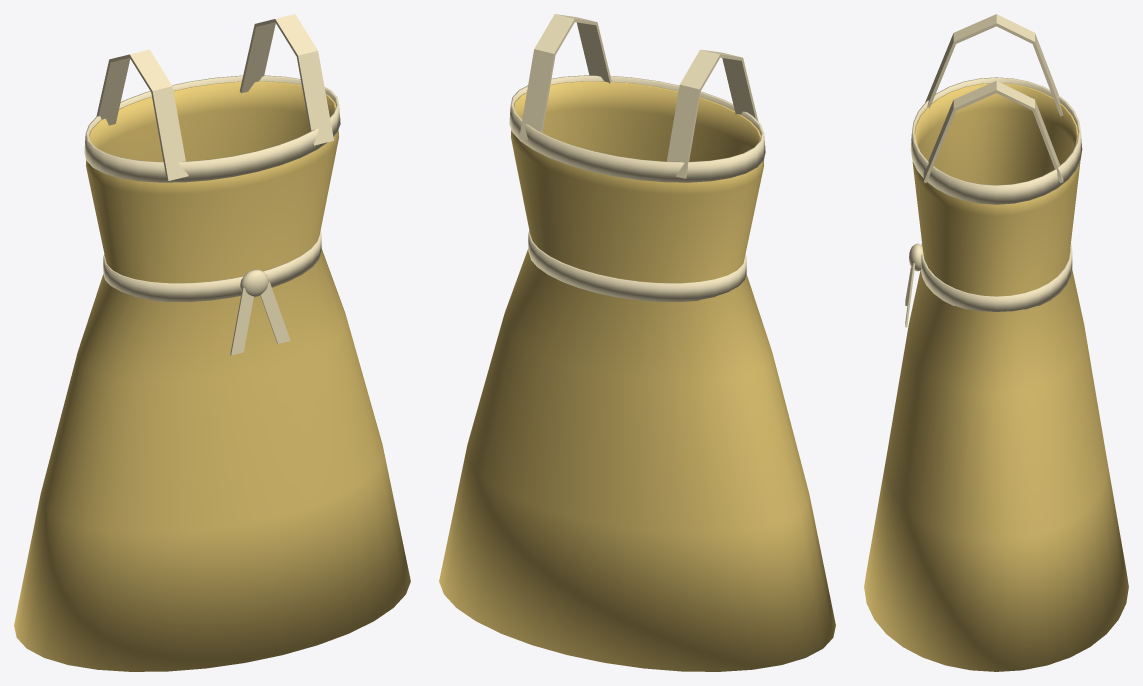
File: dress_sundress.glb
3 views of the same model, side by side, from view 1: azimuth 30°, elevation 25°; view 2: azimuth 150°, elevation 25°; view 3: azimuth 270°, elevation 25° (orthographic). The views are drawn at different scales.
Visible parts, largest first — view 1: Sundress_Open_Bodice_And_Skirt, Sundress_Top_Binding, Sundress_Shoulder_Strap.001, Sundress_Shoulder_Strap, Sundress_Waist_Tie, Sundress_Tie_Tail, Sundress_Tie_Tail.001, Sundress_Front_Knot; view 2: Sundress_Open_Bodice_And_Skirt, Sundress_Top_Binding, Sundress_Waist_Tie, Sundress_Shoulder_Strap, Sundress_Shoulder_Strap.001; view 3: Sundress_Open_Bodice_And_Skirt, Sundress_Top_Binding, Sundress_Waist_Tie, Sundress_Shoulder_Strap.001, Sundress_Shoulder_Strap.
Boxes of the visible parts, x1,y1,x2,y2 form: Sundress_Open_Bodice_And_Skirt: (14, 81, 410, 671); Sundress_Top_Binding: (84, 75, 340, 182); Sundress_Shoulder_Strap.001: (240, 14, 333, 145); Sundress_Shoulder_Strap: (96, 49, 188, 180); Sundress_Waist_Tie: (103, 231, 321, 301); Sundress_Tie_Tail: (230, 288, 253, 355); Sundress_Tie_Tail.001: (260, 281, 290, 343); Sundress_Front_Knot: (240, 269, 268, 297); Sundress_Open_Bodice_And_Skirt: (439, 81, 835, 671); Sundress_Top_Binding: (509, 75, 765, 182); Sundress_Waist_Tie: (528, 231, 746, 301); Sundress_Shoulder_Strap: (667, 49, 758, 178); Sundress_Shoulder_Strap.001: (519, 14, 611, 140); Sundress_Open_Bodice_And_Skirt: (864, 83, 1128, 671); Sundress_Top_Binding: (910, 77, 1082, 204); Sundress_Waist_Tie: (921, 243, 1072, 311); Sundress_Shoulder_Strap.001: (923, 81, 1063, 183); Sundress_Shoulder_Strap: (925, 14, 1063, 116).
Bounding box in the file's own units: 0.648 × 0.9502 × 0.426.
